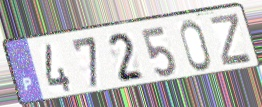0: (178, 18, 214, 74)
2: (106, 31, 145, 85)
4: (45, 42, 72, 94)
5: (139, 24, 180, 79)
7: (70, 35, 101, 91)
Z: (208, 11, 254, 67)
